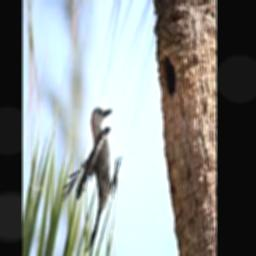Woodpecker: (61, 108, 121, 251)
